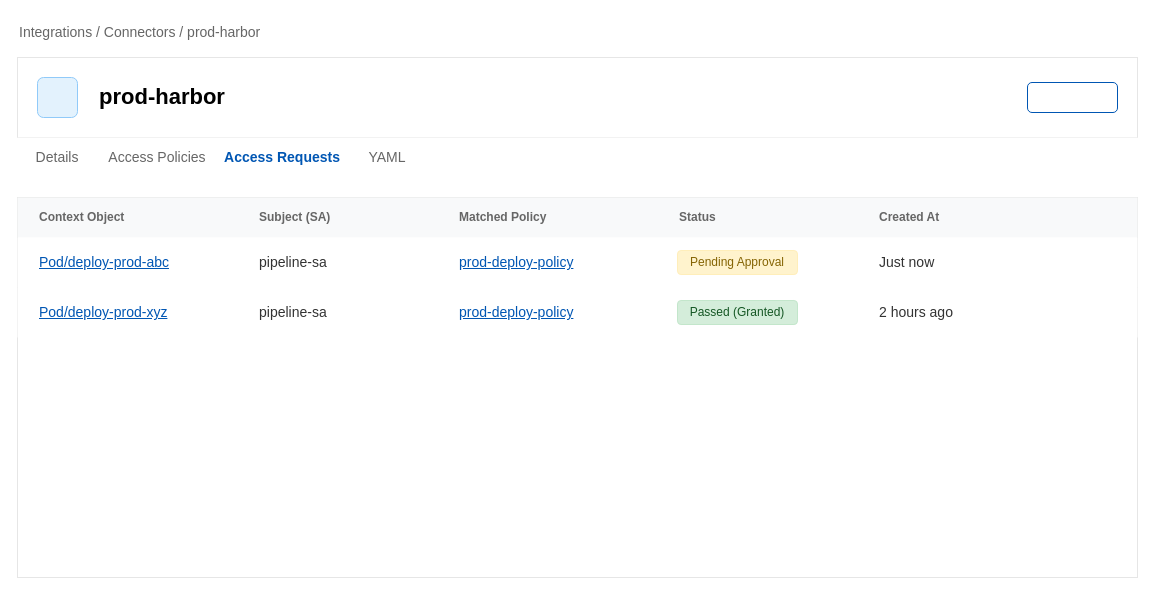
The diagram is 1155 pixels wide and 595 high, and some of its shapes have lost their labels. Here are the shapes that lost their labels. From the top down, the box of each, then its label:
(36, 76, 78, 118): oci
(1026, 82, 1118, 112): Actions ∨
